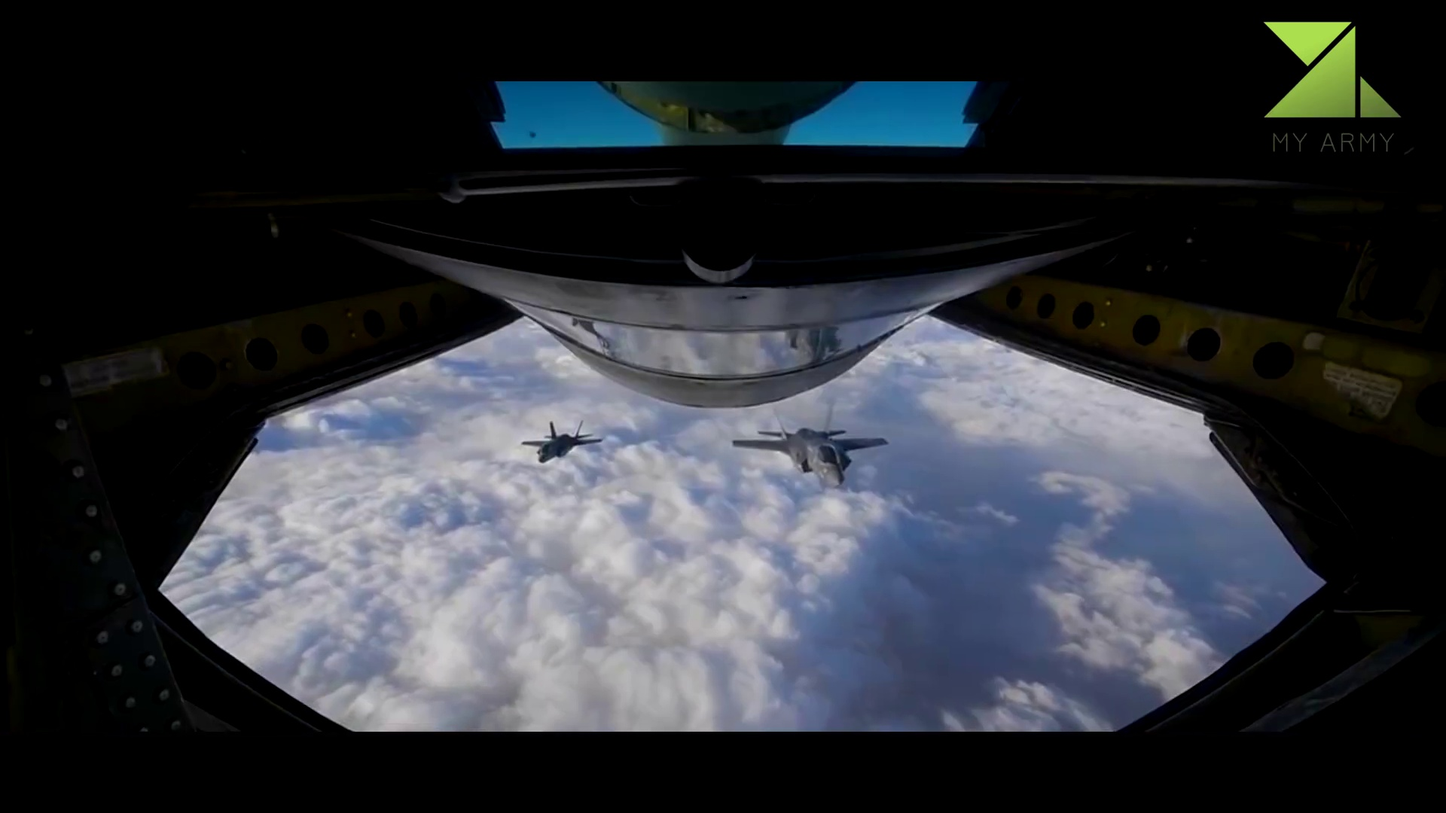F35: (727, 399, 892, 493), (519, 414, 606, 465)
